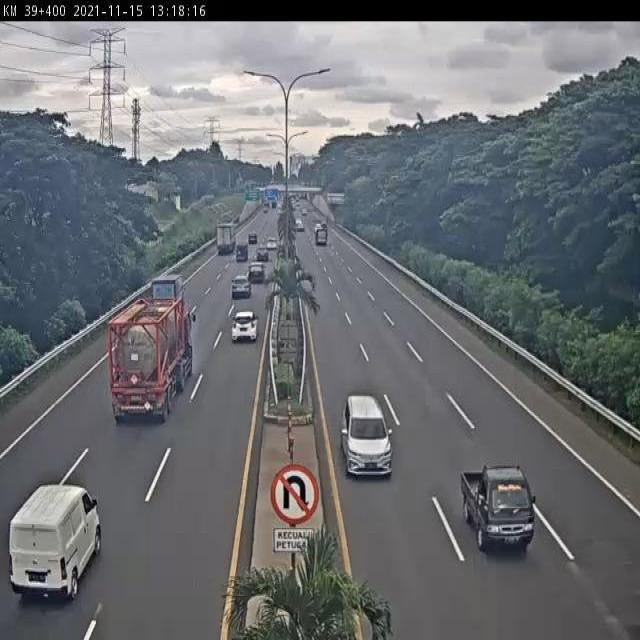bus-s-: (8, 478, 104, 602)
car: (339, 392, 394, 480), (229, 305, 259, 347), (230, 272, 252, 301)
truck-s-: (458, 459, 537, 557), (150, 271, 185, 312)
truck-xl-: (110, 297, 196, 427)
